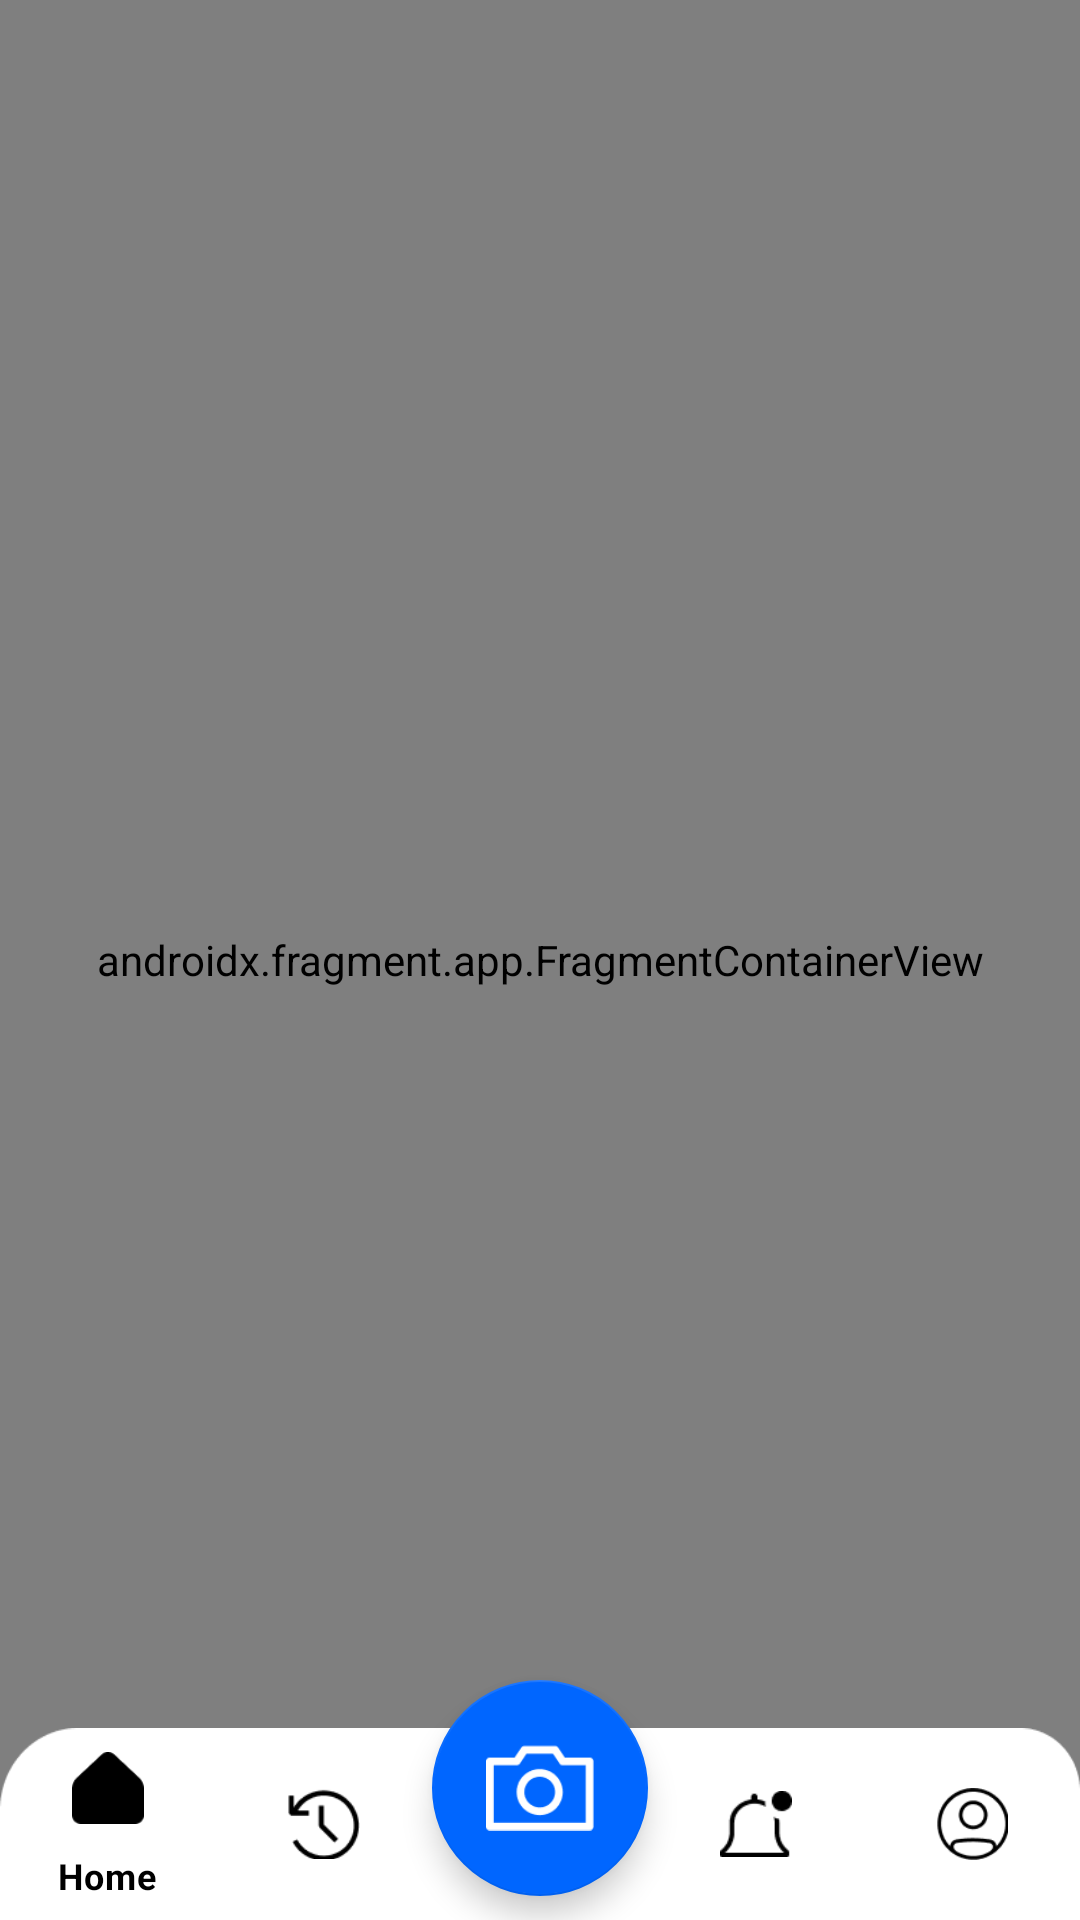

Screen size 1080px x 1920px. Icon name, then its center in pixels as point (x, y):
camera: point (540, 1788)
